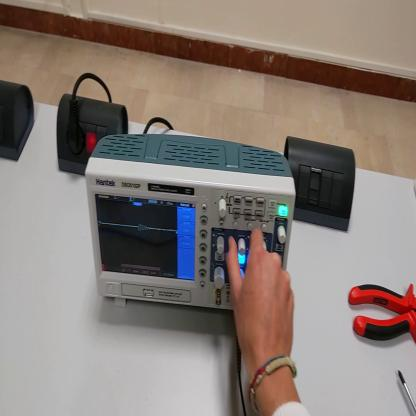hand: (226, 225, 295, 366)
oscilloscope: (84, 134, 295, 313)
pliers: (349, 283, 416, 347)
screwdriver-: (399, 373, 416, 411)
socket: (55, 92, 130, 180), (1, 75, 35, 164)
